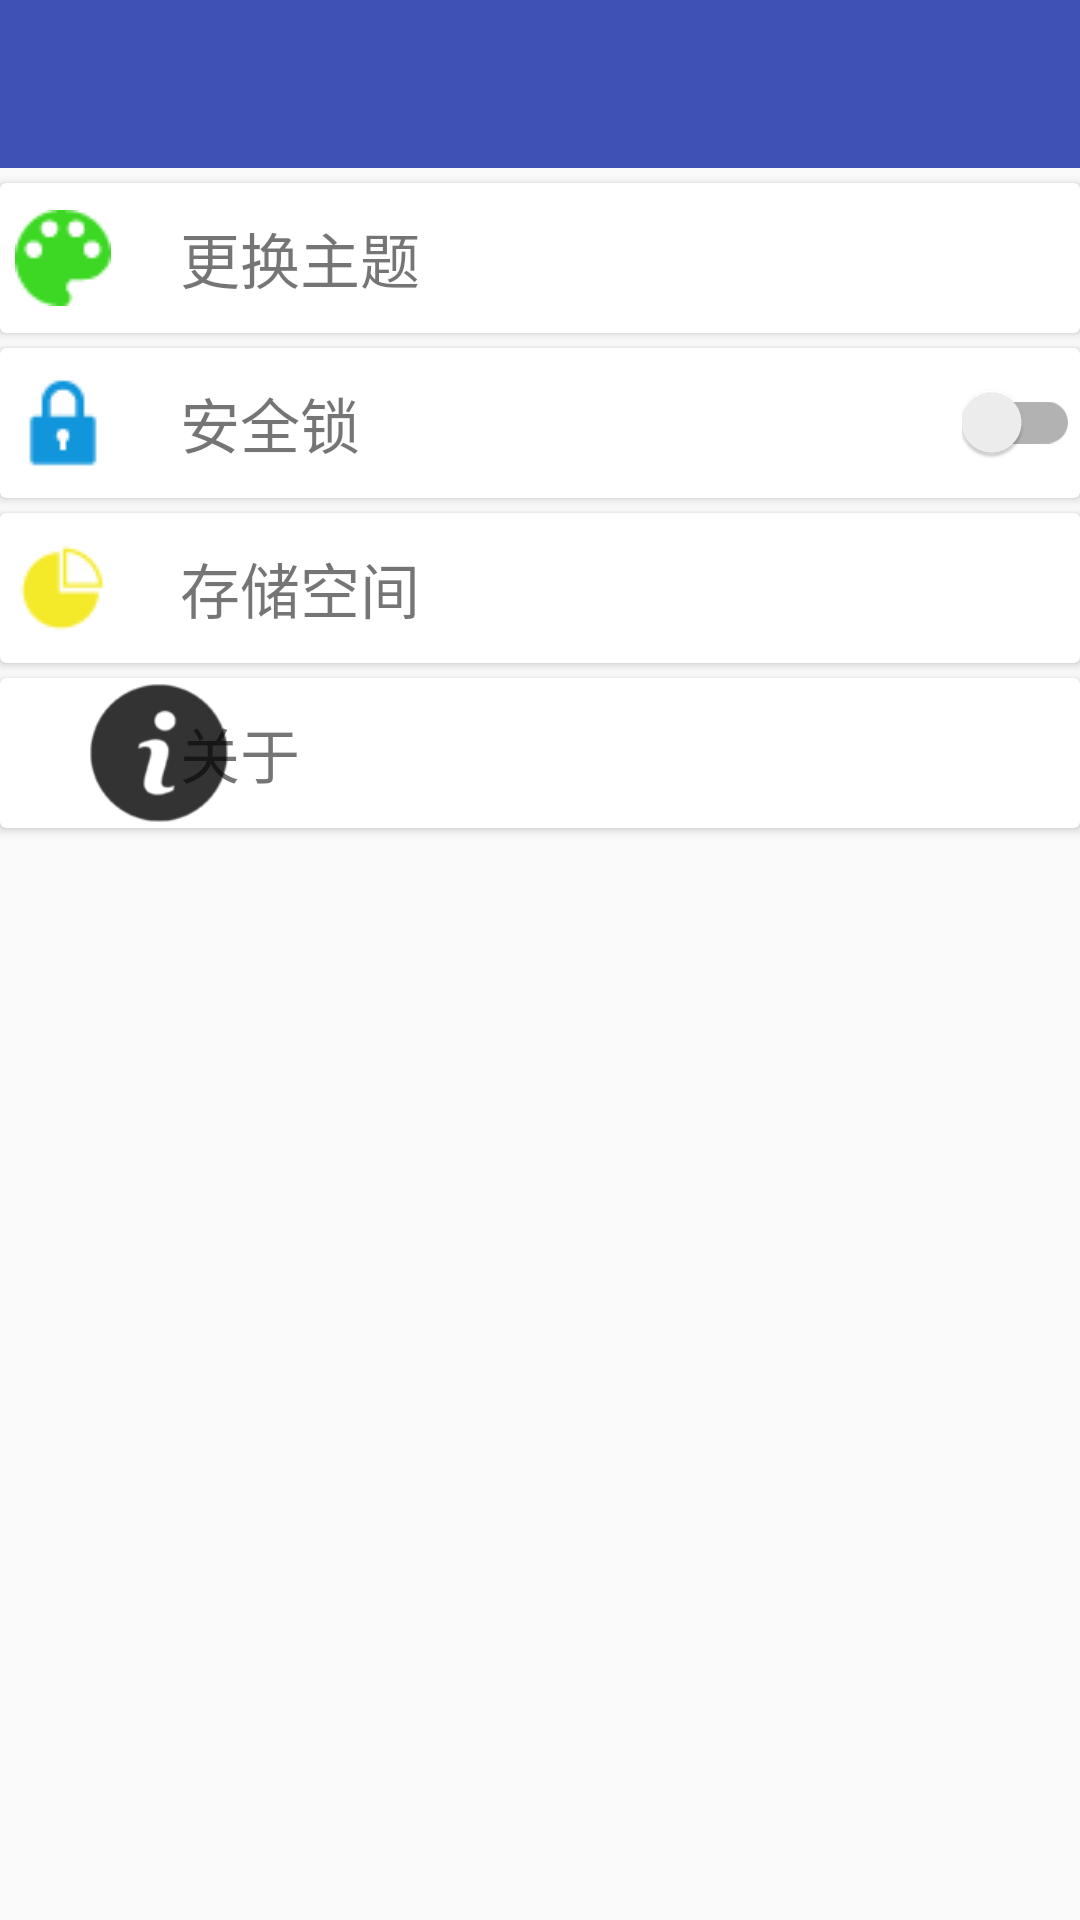

Point at icon controls on the screen. Image size 1080w x 1920h, points as (x=x, y=y).
lock: (x=63, y=423)
storage space: (x=63, y=588)
theme: (x=63, y=258)
